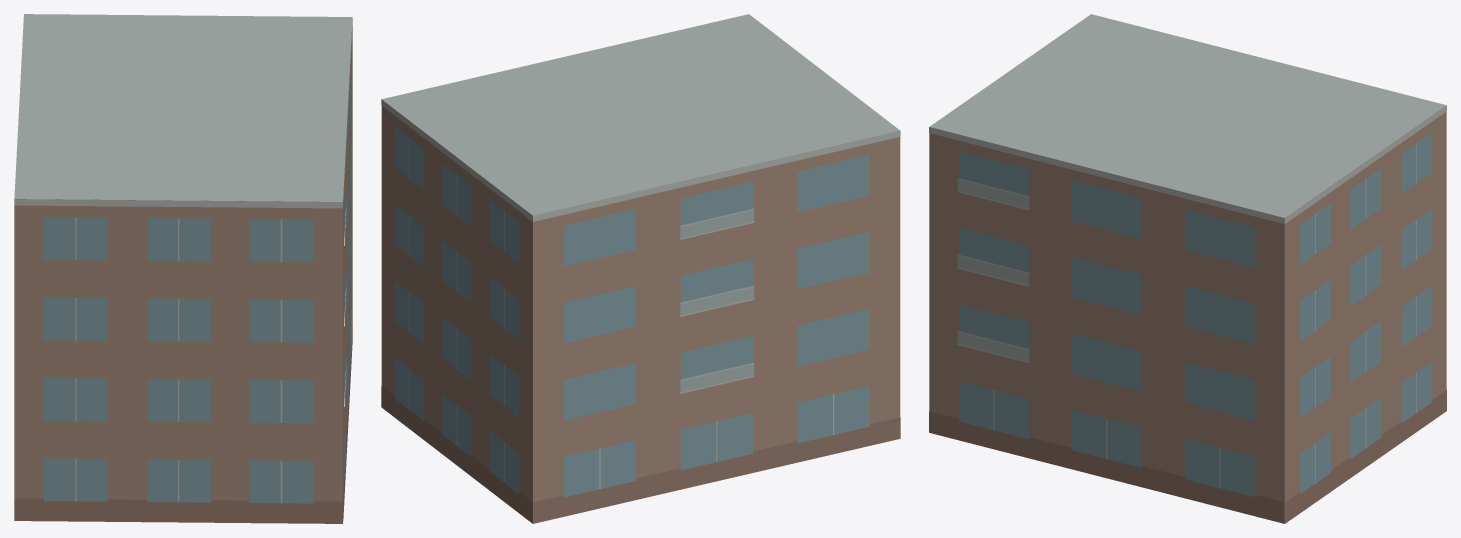
File: residential-7d6b5e7a-fc2f-4a67-8d6a-815bdd575e89.glb
3 views of the same model, side by side, from view 1: azimuth 30°, elevation 25°; view 2: azimuth 150°, elevation 25°; view 3: azimuth 270°, elevation 25° (orthographic). The views are drawn at different scales.
Parts seen in each view (by area): view 1: residential-7d6b5e7a-fc2f-4a67-8d6a-815bdd575e89.tmp; view 2: residential-7d6b5e7a-fc2f-4a67-8d6a-815bdd575e89.tmp; view 3: residential-7d6b5e7a-fc2f-4a67-8d6a-815bdd575e89.tmp.
Boxes of the visible parts, x1,y1,x2,y2 form: residential-7d6b5e7a-fc2f-4a67-8d6a-815bdd575e89.tmp: [14, 14, 352, 523]; residential-7d6b5e7a-fc2f-4a67-8d6a-815bdd575e89.tmp: [381, 14, 900, 523]; residential-7d6b5e7a-fc2f-4a67-8d6a-815bdd575e89.tmp: [929, 14, 1446, 523].
Bounding box in the file's own units: 17.47 × 12.2 × 18.72.
